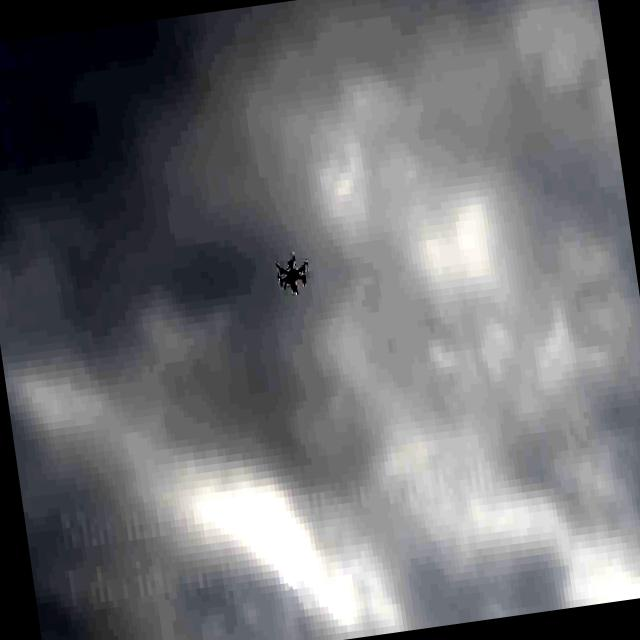drone: (275, 251, 316, 298)
